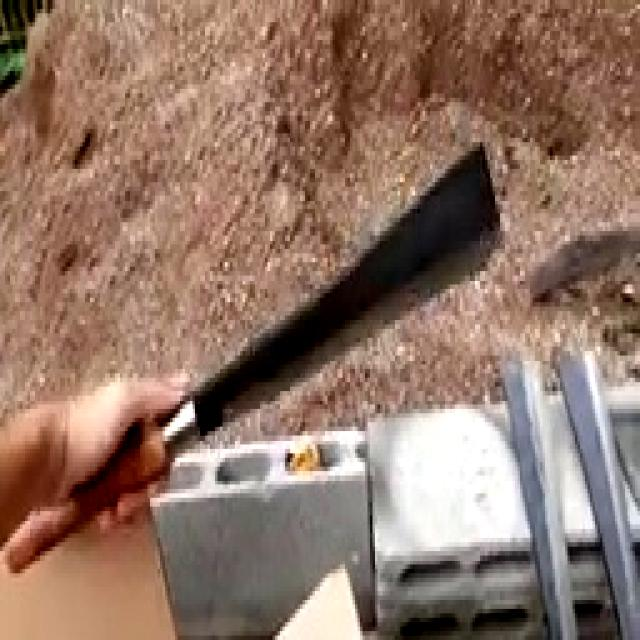eto: (0, 141, 507, 582)
